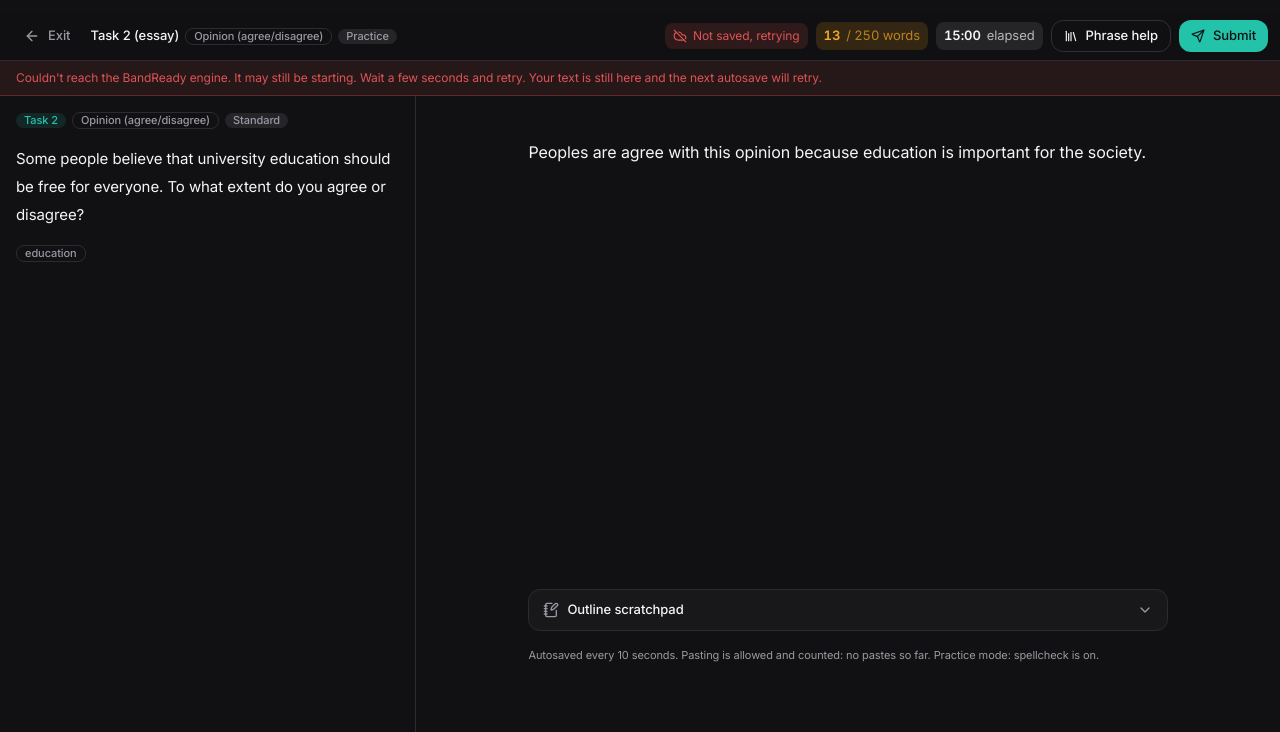
Test case: AttemptEditor › opens the outline scratchpad on demand
Click the button "Outline scratchpad".
click(626, 609)  # box top-left (529, 590), bottom-right (1167, 630)
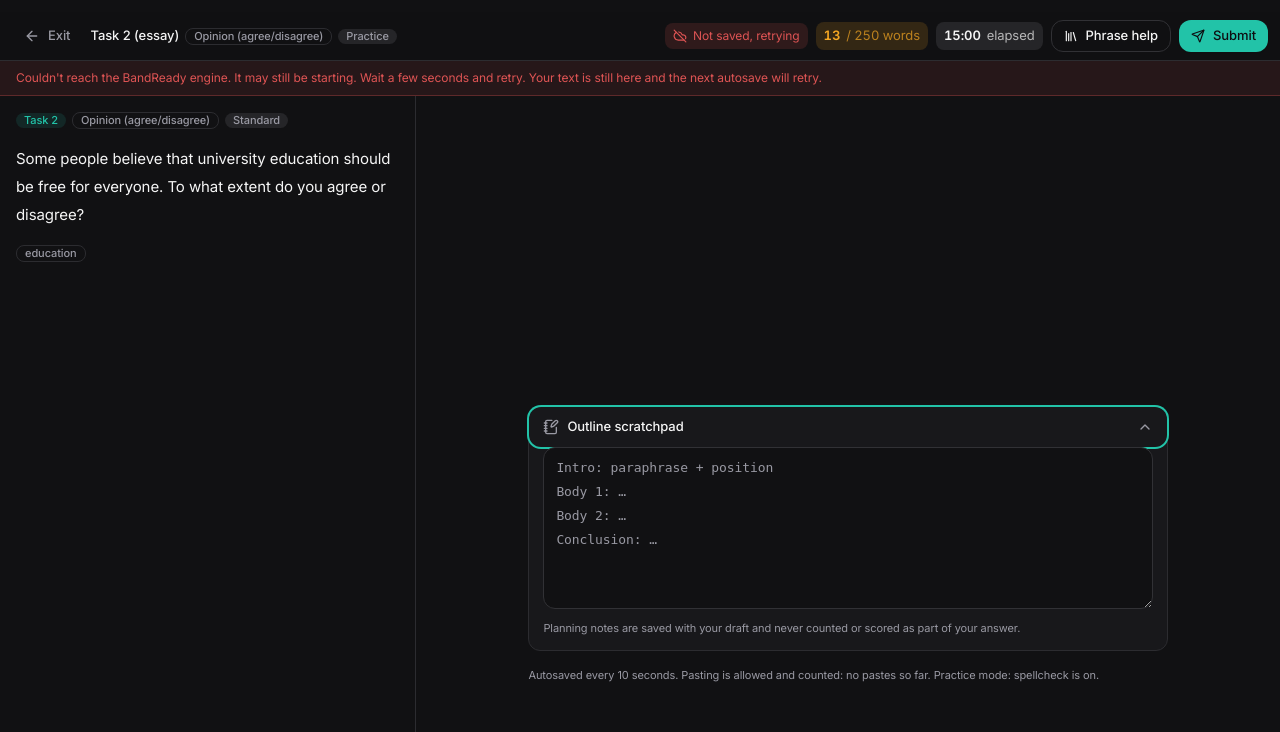
Expected: the text box named "Outline scratchpad" is shown, top-left (543, 446), bottom-right (1153, 608)
